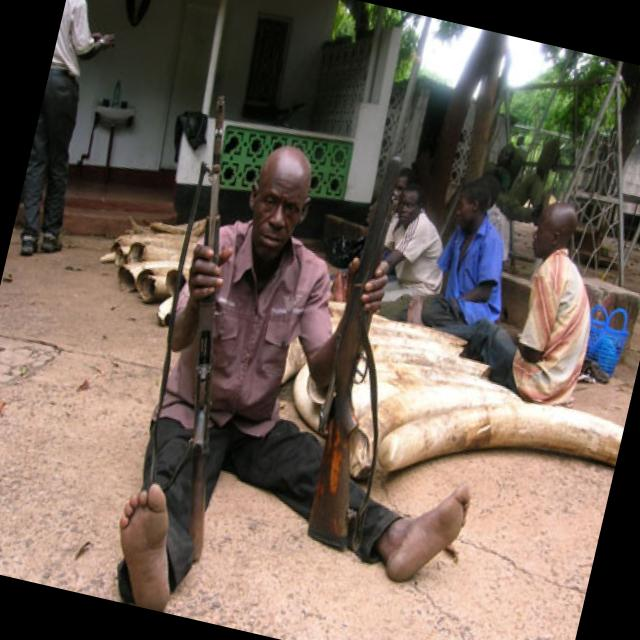poacher: (43, 26, 554, 623)
weapon: (106, 78, 320, 524), (274, 138, 469, 566)
